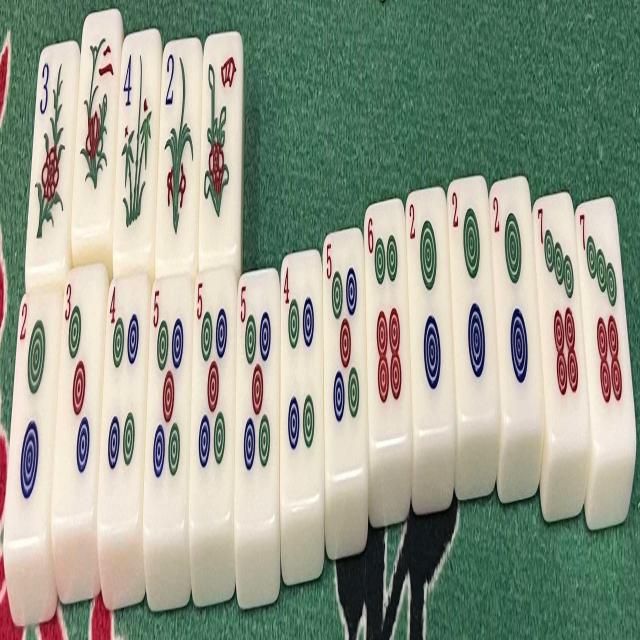f2: (162, 46, 196, 259)
f3: (36, 51, 71, 259)
f4: (120, 41, 154, 244)
ff2: (77, 17, 116, 228)
ff4: (203, 36, 240, 256)
t2: (493, 194, 533, 416), (409, 190, 447, 420), (451, 188, 490, 406), (16, 297, 48, 528)
t3: (63, 274, 92, 500)
t4: (282, 261, 320, 490), (106, 284, 140, 508)
t5: (325, 235, 364, 462), (150, 283, 186, 520), (238, 281, 276, 503), (194, 280, 230, 508)
t6: (366, 217, 403, 431)
t7: (581, 207, 624, 421), (537, 201, 579, 417)
